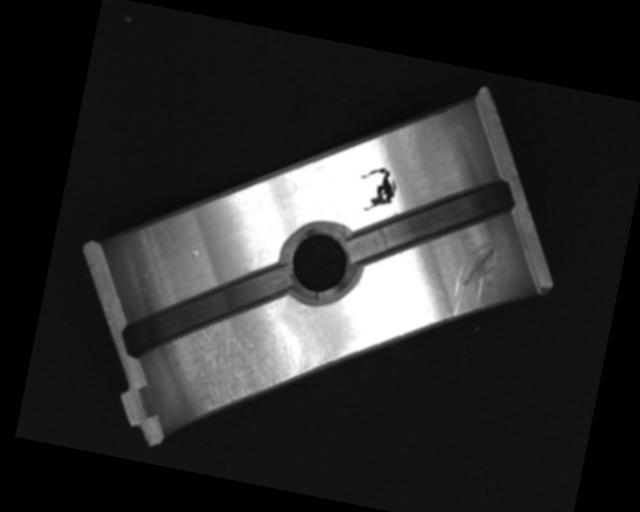blot: (353, 162, 400, 217)
bruise: (187, 247, 200, 259)
gap: (117, 238, 295, 385), (348, 155, 518, 291)
hole: (272, 215, 365, 307)
nick: (448, 232, 503, 324)
scratch: (159, 310, 329, 440)
